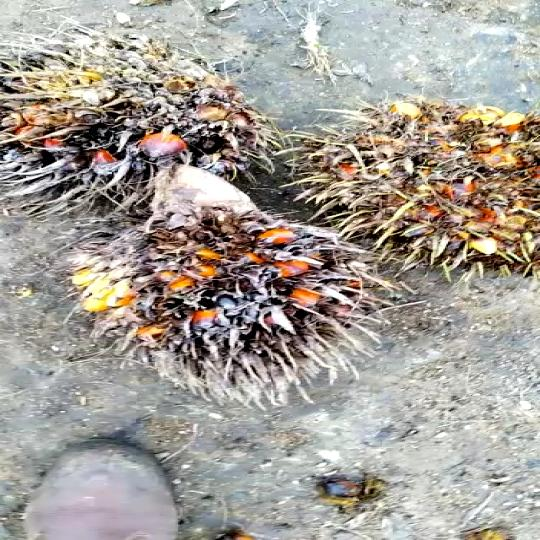terlalu masak: (79, 170, 349, 399), (0, 33, 256, 216), (299, 100, 540, 273)
